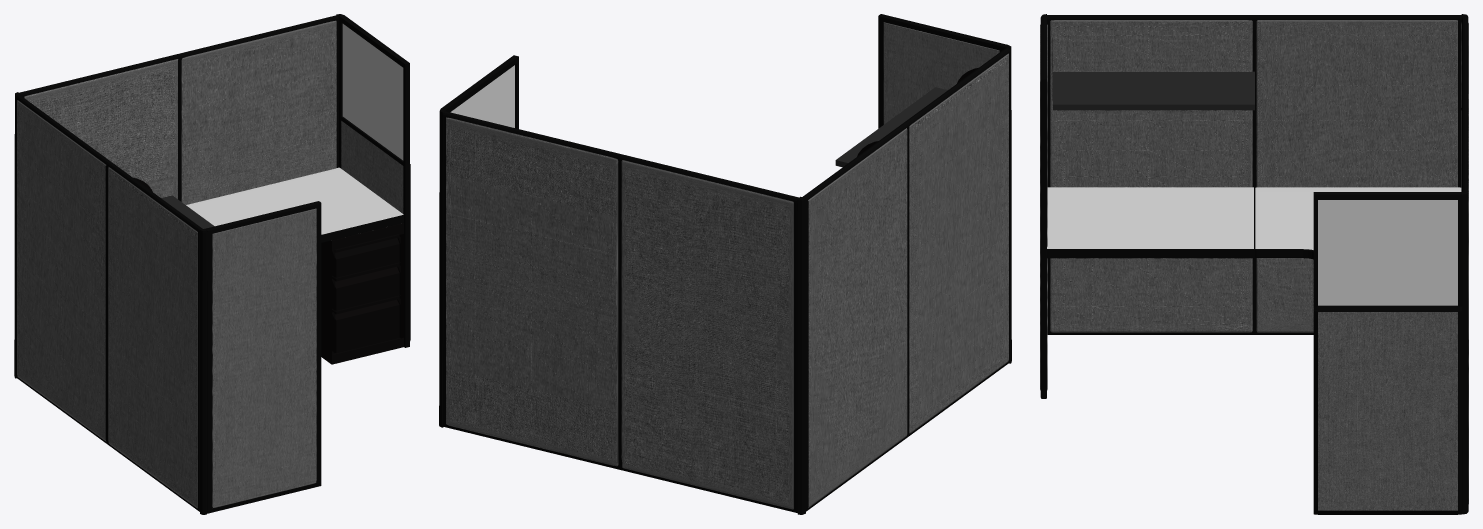
The model's file is cubicle_v2.glb.
3 renders of one model, left to right at view 1: azimuth 30°, elevation 25°; view 2: azimuth 150°, elevation 25°; view 3: azimuth 270°, elevation 25°, orthographic. The views are drawn at different scales.
Visible parts, largest first — view 1: Wall2, Wall3, CubicleWall, Wall4, Cabinet, TablePt3, Corner, Corner.001, Tabletop; view 2: Wall3, Wall2, CubicleWall, Wall4, Corner.001, Corner.002, Tabletop, Corner; view 3: Wall2, Wall4, CubicTables, Tabletop, TablePt2, CubicleWall, Corner.002, Wall3.
Boxes of the visible parts, x1=… form: Wall2: x1=16, y1=95, x2=202, y2=511; Wall3: x1=19, y1=15, x2=338, y2=204; CubicleWall: x1=205, y1=201, x2=321, y2=513; Wall4: x1=339, y1=15, x2=410, y2=347; Cabinet: x1=321, y1=223, x2=403, y2=364; TablePt3: x1=186, y1=167, x2=403, y2=242; Corner: x1=200, y1=229, x2=207, y2=514; Corner.001: x1=14, y1=92, x2=20, y2=378; Tabletop: x1=161, y1=195, x2=214, y2=228; Wall3: x1=443, y1=111, x2=798, y2=512; Wall2: x1=802, y1=47, x2=1010, y2=511; CubicleWall: x1=878, y1=14, x2=1007, y2=128; Wall4: x1=440, y1=55, x2=518, y2=128; Corner.001: x1=797, y1=196, x2=805, y2=514; Corner.002: x1=439, y1=109, x2=446, y2=427; Tabletop: x1=835, y1=87, x2=947, y2=167; Corner: x1=1005, y1=45, x2=1011, y2=363; Wall2: x1=1047, y1=15, x2=1461, y2=334; Wall4: x1=1313, y1=192, x2=1462, y2=514; CubicTables: x1=1047, y1=187, x2=1254, y2=258; Tabletop: x1=1053, y1=71, x2=1254, y2=110; TablePt2: x1=1254, y1=187, x2=1461, y2=259; CubicleWall: x1=1040, y1=16, x2=1047, y2=398; Corner.002: x1=1462, y1=192, x2=1468, y2=514; Wall3: x1=1461, y1=17, x2=1468, y2=503.
Bounding box in the file's own units: 2 × 1.64 × 1.98.
Materials: 8 (1 with a texture image).
